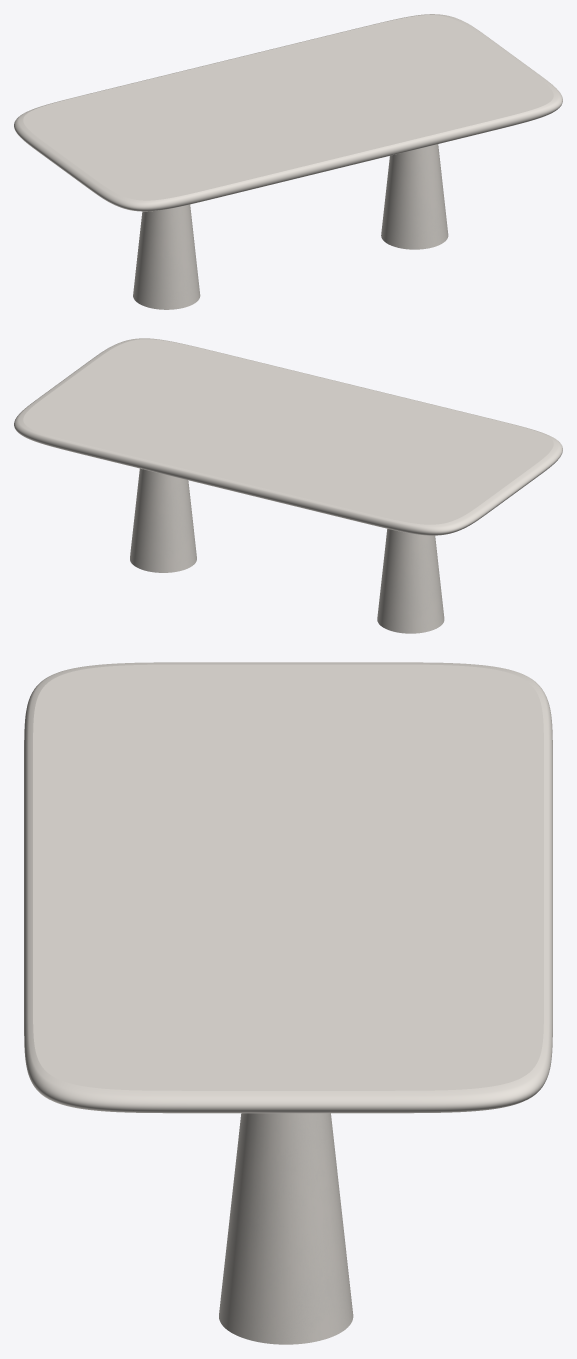
Rendered from pearlwhite_softrecta_round_pebble.glb.
3 views of the same model, one above another, from view 1: azimuth 30°, elevation 25°; view 2: azimuth 150°, elevation 25°; view 3: azimuth 270°, elevation 25° (orthographic). The views are drawn at different scales.
Visible parts, largest first — view 1: round_softrecta, pebble; view 2: round_softrecta, pebble; view 3: round_softrecta, pebble.
Boxes of the visible parts, x1,y1,x2,y2 form: round_softrecta: (14, 14, 562, 211); pebble: (133, 144, 448, 309); round_softrecta: (14, 338, 562, 535); pebble: (130, 468, 444, 633); round_softrecta: (24, 662, 552, 1113); pebble: (219, 1113, 353, 1344).
Bounding box in the file's own units: 7.5 × 2.5 × 3.8.
Materials: 1 (1 with a texture image).
